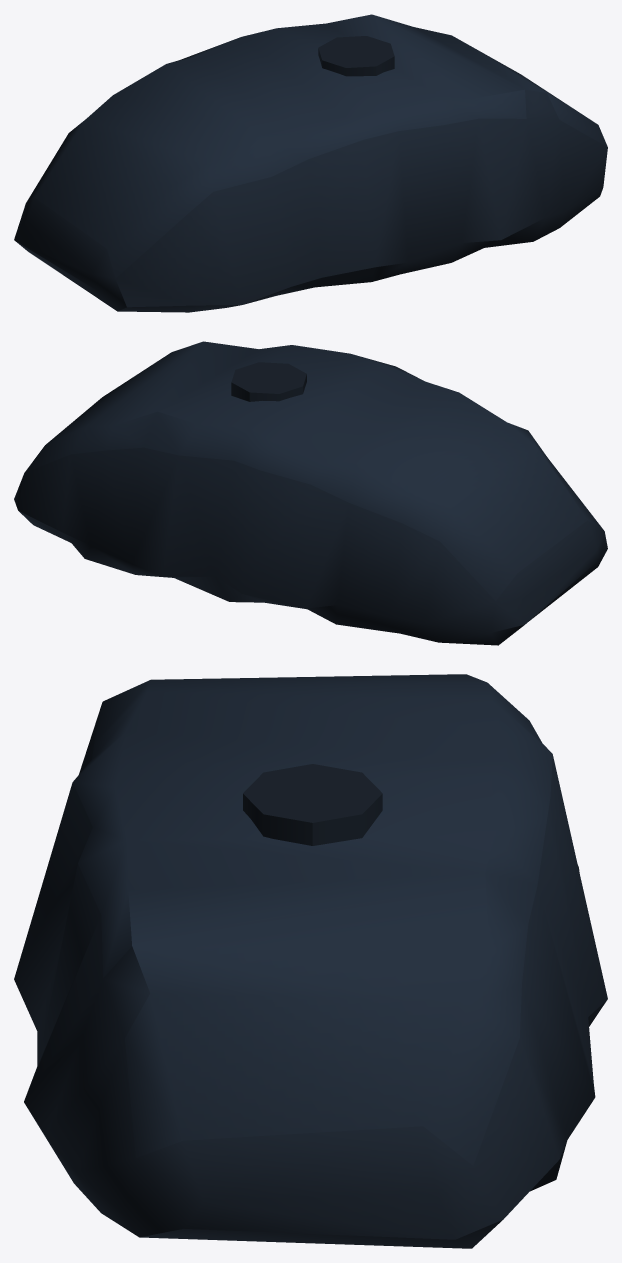
File: Kulce_Demir.fbx
3 views of the same model, one above another, from view 1: azimuth 30°, elevation 25°; view 2: azimuth 150°, elevation 25°; view 3: azimuth 270°, elevation 25° (orthographic). The views are drawn at different scales.
Visible parts, largest first — view 1: Kulce_Demir_Model; view 2: Kulce_Demir_Model; view 3: Kulce_Demir_Model.
Boxes of the visible parts, left/top/right/bottom form: Kulce_Demir_Model: left=14, top=14, right=607, bottom=312; Kulce_Demir_Model: left=14, top=341, right=607, bottom=645; Kulce_Demir_Model: left=14, top=674, right=607, bottom=1248.
Size of the model in its own units: 0.1032 by 0.0318 by 0.0578.
